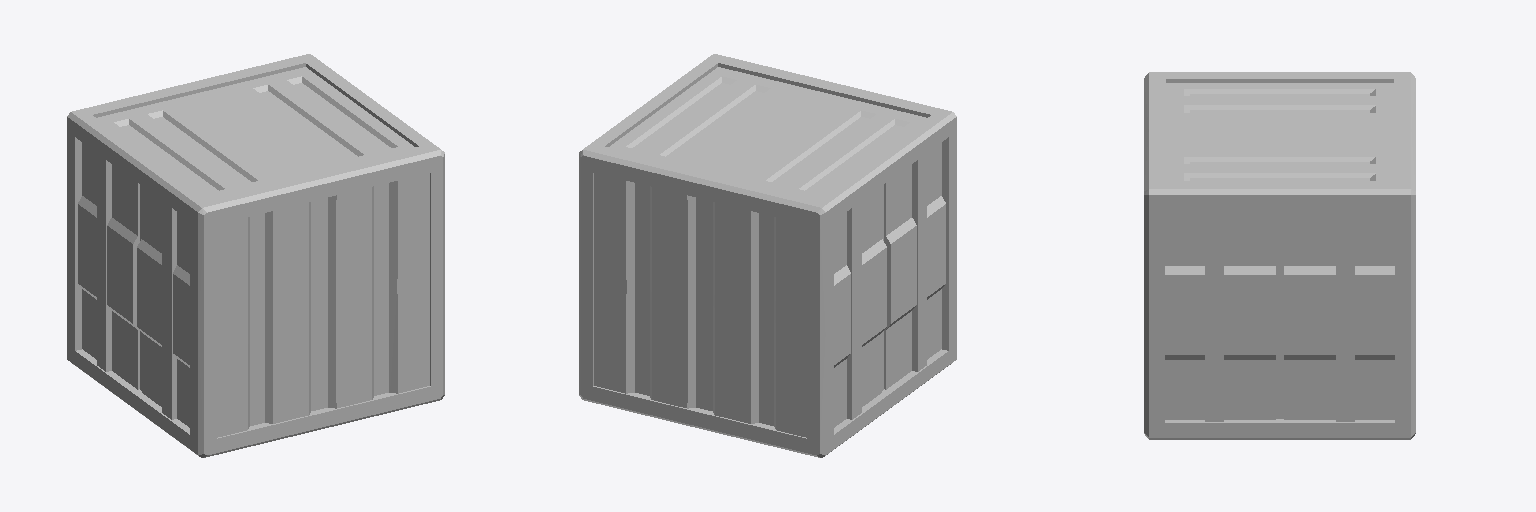
3 renders of one model, left to right at view 1: azimuth 30°, elevation 25°; view 2: azimuth 150°, elevation 25°; view 3: azimuth 270°, elevation 25°, orthographic.
Visible parts, largest first — view 1: Container_Small_Cube.090; view 2: Container_Small_Cube.090; view 3: Container_Small_Cube.090.
Boxes of the visible parts, x1=… form: Container_Small_Cube.090: x1=67, y1=54, x2=444, y2=457; Container_Small_Cube.090: x1=579, y1=54, x2=956, y2=457; Container_Small_Cube.090: x1=1144, y1=72, x2=1415, y2=439.
Size of the model in its own units: 263 by 256 by 251.